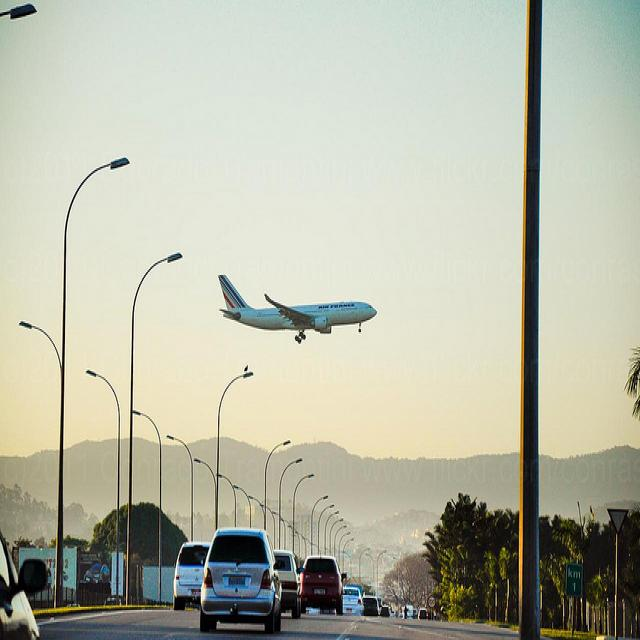airplane: (217, 273, 379, 344)
